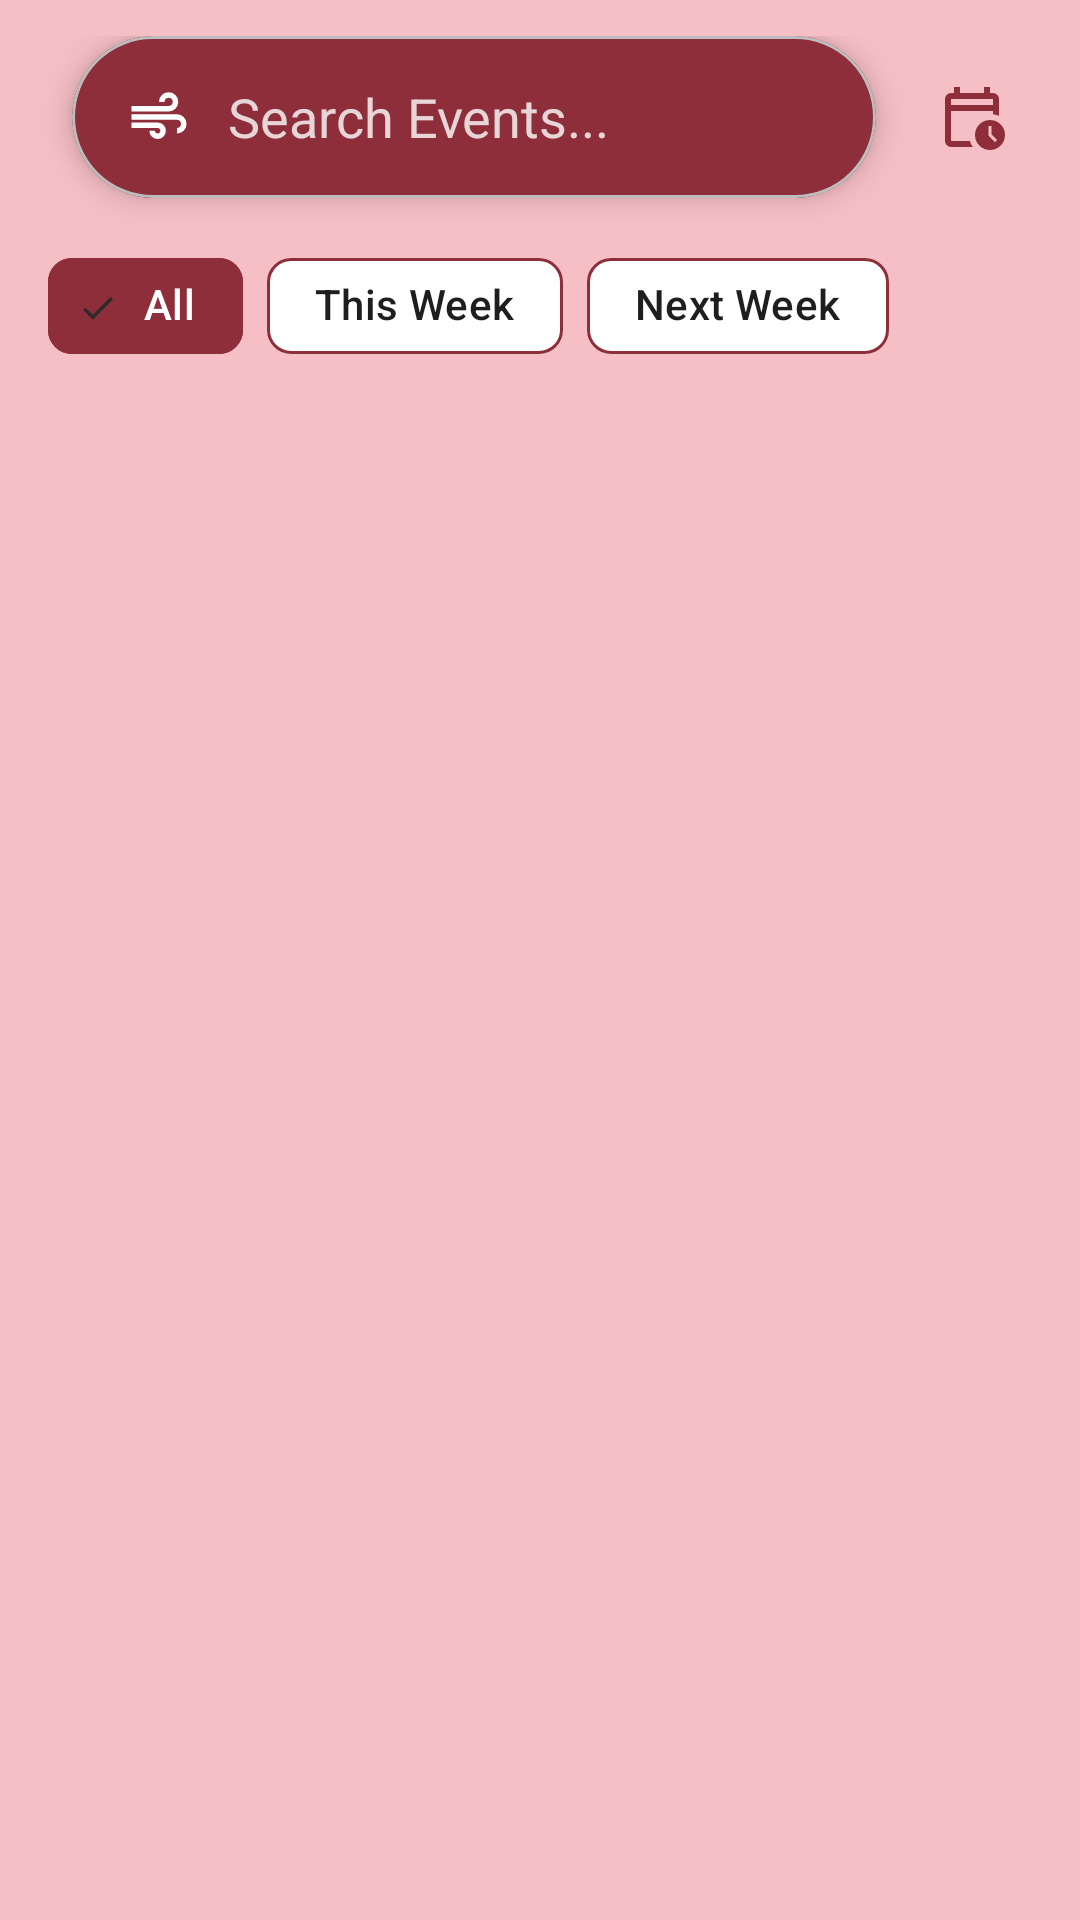

Where to tap for icons on this 1080 x 1920 app screen, as (x=x, y=y):
calendar: (x=975, y=118)
